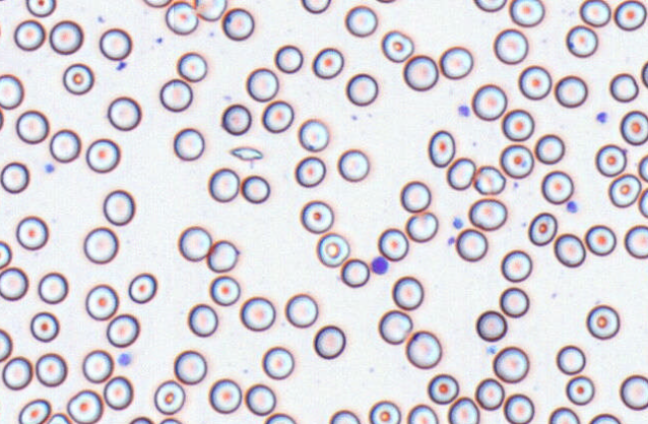PLT: (369, 256, 389, 274), (564, 200, 582, 216), (455, 105, 471, 120), (117, 352, 131, 368), (452, 216, 467, 229), (592, 112, 609, 123), (43, 163, 56, 175)
RBC: (405, 330, 441, 369), (492, 346, 529, 383), (402, 54, 438, 91), (471, 83, 507, 120), (83, 226, 118, 264), (468, 197, 507, 230), (239, 296, 275, 331), (493, 28, 528, 64), (85, 138, 120, 173), (499, 143, 534, 178), (66, 389, 102, 423), (177, 225, 211, 261), (208, 378, 242, 414), (284, 292, 318, 328), (85, 283, 118, 320), (378, 309, 412, 344), (49, 19, 83, 54), (107, 96, 141, 131), (586, 304, 620, 339), (102, 189, 135, 225), (439, 45, 473, 79), (15, 109, 48, 144), (173, 349, 206, 384), (15, 215, 48, 250), (316, 232, 349, 267), (518, 65, 551, 100), (106, 313, 139, 347), (159, 78, 192, 112), (608, 173, 641, 207), (345, 72, 378, 106), (300, 199, 333, 233), (207, 167, 239, 202), (35, 352, 67, 387), (153, 379, 185, 414), (313, 324, 345, 359), (391, 275, 423, 310), (206, 239, 239, 272), (165, 1, 198, 34), (261, 100, 294, 133), (221, 7, 254, 40), (501, 108, 534, 141), (261, 346, 294, 379), (344, 4, 377, 37), (565, 24, 598, 57), (81, 349, 113, 383), (246, 67, 278, 101), (455, 227, 487, 261), (553, 233, 585, 267), (337, 148, 369, 182), (541, 170, 573, 204), (427, 129, 455, 167), (62, 62, 94, 95), (500, 249, 532, 282), (99, 27, 131, 60), (554, 75, 587, 107), (49, 128, 80, 162), (187, 303, 218, 337), (298, 118, 329, 152), (595, 143, 626, 177), (377, 227, 408, 261), (2, 355, 32, 390), (103, 375, 133, 410), (527, 211, 557, 246), (619, 374, 648, 410), (13, 19, 45, 51), (475, 309, 507, 341), (244, 383, 276, 415), (294, 155, 326, 187), (381, 30, 413, 62), (584, 224, 616, 256), (405, 211, 438, 242), (37, 271, 68, 304), (173, 127, 204, 160), (614, 0, 646, 31), (400, 180, 431, 212), (312, 47, 343, 79), (474, 377, 504, 410), (620, 110, 648, 145), (427, 373, 458, 404), (176, 51, 207, 82), (209, 275, 240, 306), (473, 165, 505, 195), (221, 103, 251, 135), (446, 157, 475, 190), (0, 266, 28, 300), (509, 0, 544, 27), (503, 393, 534, 423), (499, 286, 529, 317), (127, 272, 157, 303), (534, 133, 564, 164), (0, 161, 29, 193), (555, 344, 585, 374), (609, 72, 639, 102), (30, 311, 59, 342), (240, 174, 270, 203), (565, 375, 594, 405), (340, 257, 369, 287), (447, 396, 479, 423), (0, 73, 24, 109), (579, 0, 611, 27), (274, 44, 303, 73), (624, 224, 648, 258), (18, 398, 50, 423), (368, 400, 401, 423), (195, 0, 226, 21), (407, 403, 438, 423), (548, 406, 580, 423), (25, 0, 56, 17), (328, 409, 360, 423), (473, 0, 507, 12), (300, 0, 331, 13), (0, 328, 12, 361), (263, 412, 296, 423), (0, 240, 12, 268), (588, 413, 621, 423), (638, 187, 648, 218), (638, 153, 648, 182), (46, 412, 70, 423), (142, 0, 171, 7), (641, 60, 648, 88), (128, 416, 154, 423), (158, 417, 182, 423), (0, 106, 4, 131), (0, 16, 3, 48), (374, 0, 398, 3)
Schistocyte: (231, 147, 263, 162)
